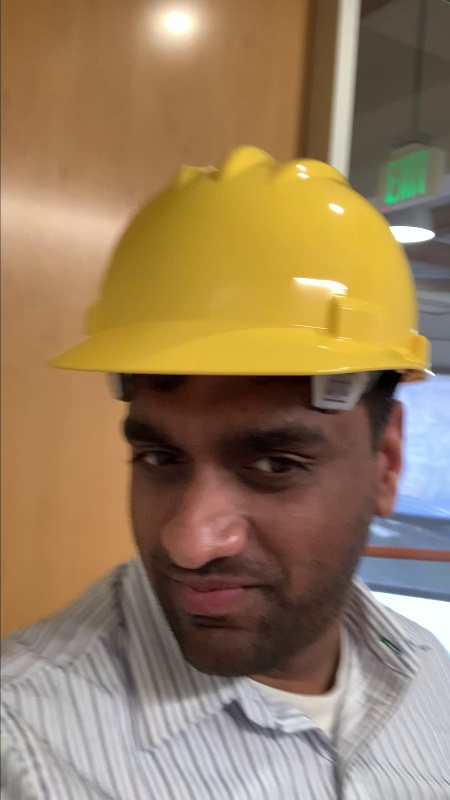helmet: (43, 136, 434, 413)
